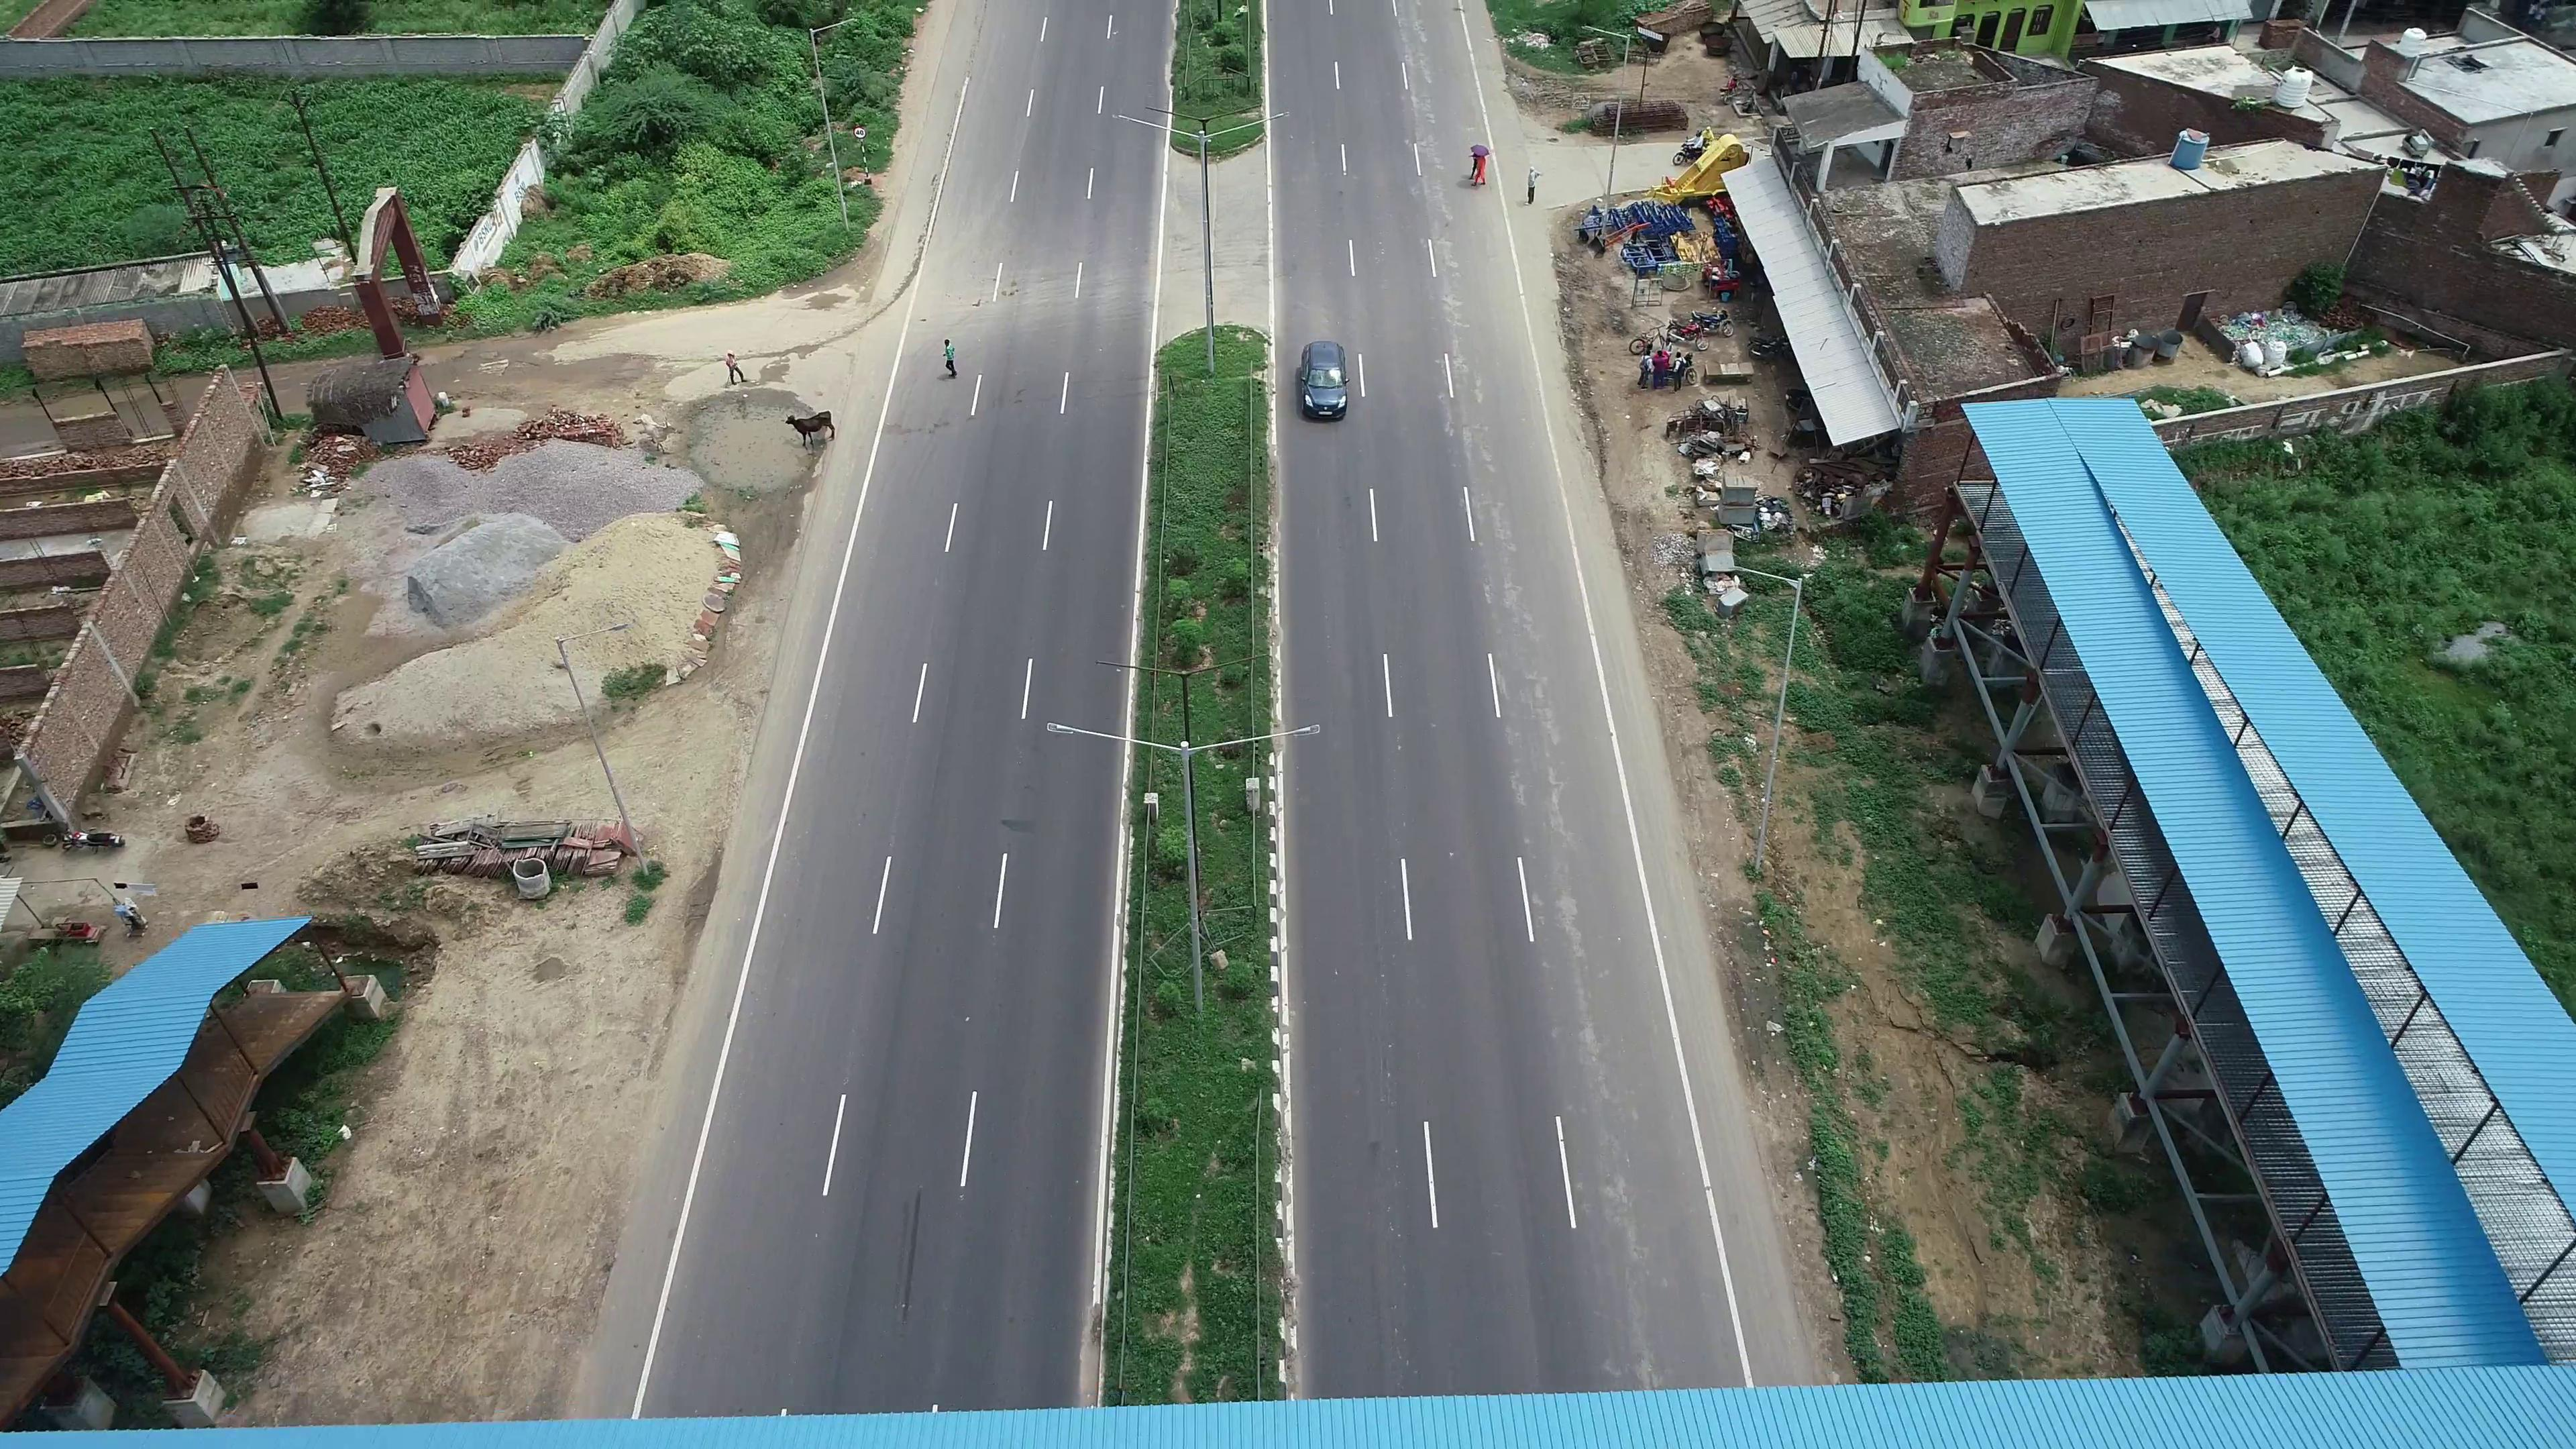Ravelling: (1449, 453, 1564, 711), (1518, 745, 1605, 1083), (1419, 173, 1491, 437)
